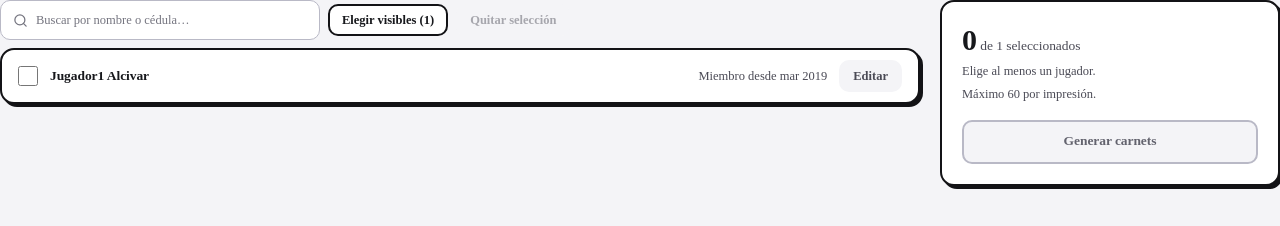
Test: CarnetPicker — «Miembro desde» on the row (#1749, S1) › shows the editor's own errors and leaves the row as it was
The width and height of the screenshot is (1280, 226).
Click the button with aria-label "Editar Miembro desde de Jugador1 Alcivar" at (871, 76), box x1=839 y1=60 x2=902 y2=92
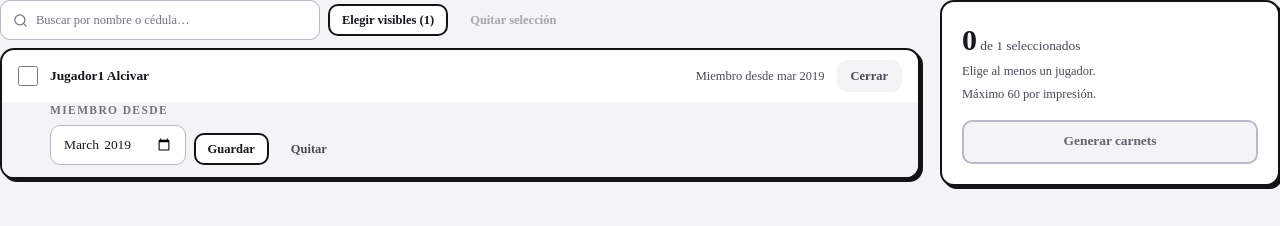
Replace the text in the field named "Miembro desde de Jugador1 Alcivar" with "2020-01" at (118, 145), box x1=50 y1=125 x2=186 y2=165
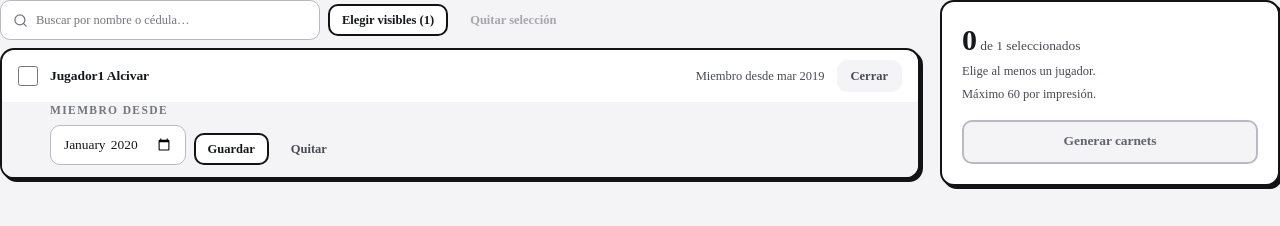
Click the button "Guardar" at (231, 149), box x1=194 y1=133 x2=269 y2=165
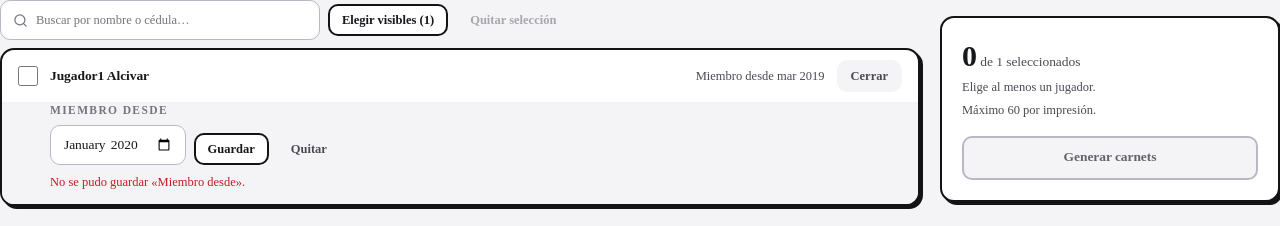
Expected: the text "Miembro desde mar 2019" is shown, x1=696 y1=67 x2=824 y2=85
Now the message "No se pudo guardar «Miembro desde»." is shown, box x1=50 y1=175 x2=245 y2=189
Replace the text in the field named "Miembro desde de Jugador1 Alcivar" with "2012-01" at (118, 145), box x1=50 y1=125 x2=186 y2=165
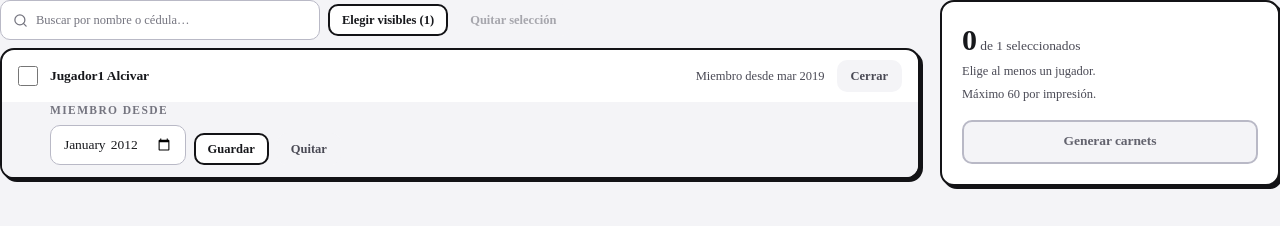
Click the button "Guardar" at (231, 149), box x1=194 y1=133 x2=269 y2=165
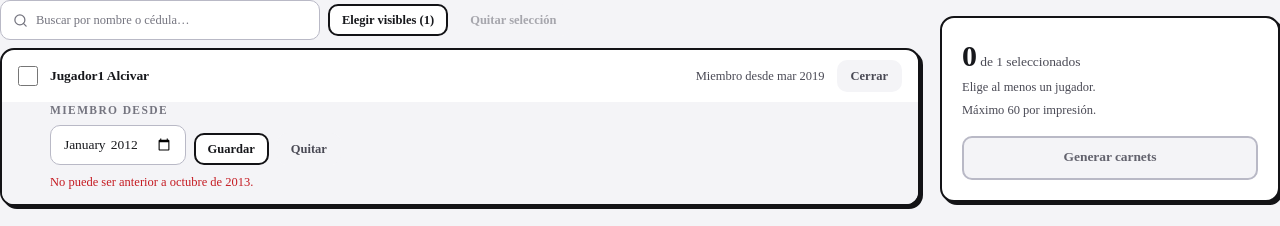
Now the text "No puede ser anterior a octubre de 2013." is shown, box x1=50 y1=175 x2=253 y2=189
